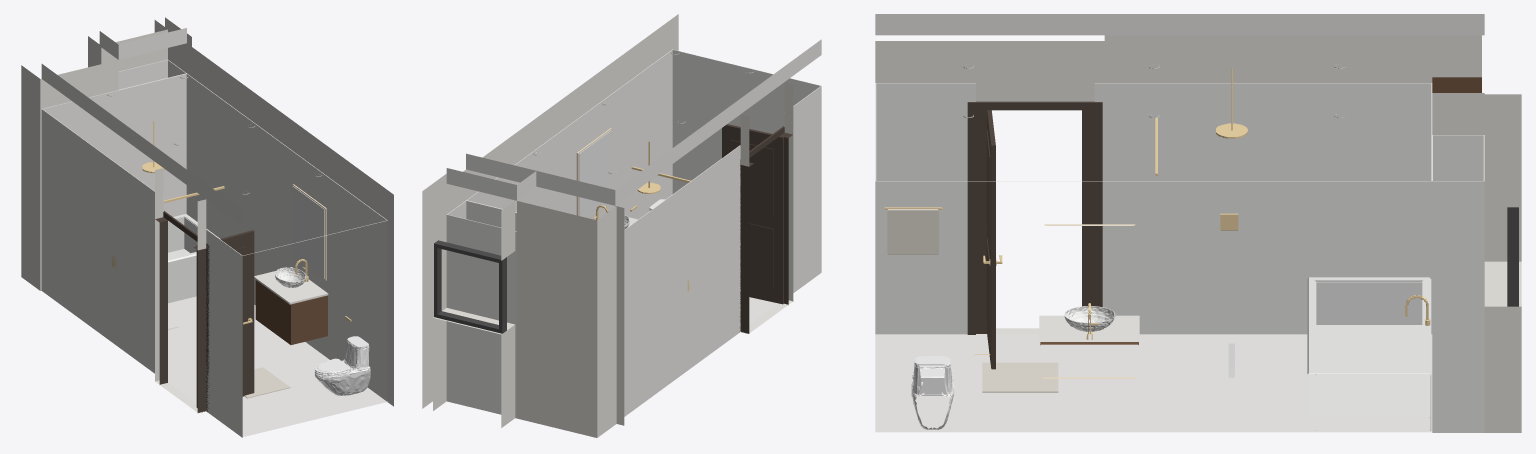
Rendered from BATH1.glb.
3 views of the same model, side by side, from view 1: azimuth 30°, elevation 25°; view 2: azimuth 150°, elevation 25°; view 3: azimuth 270°, elevation 25° (orthographic). The views are drawn at different scales.
Visible parts, largest first — view 1: WEB_BATH1; view 2: WEB_BATH1; view 3: WEB_BATH1.
Boxes of the visible parts, x1=… form: WEB_BATH1: x1=21, y1=17, x2=393, y2=437; WEB_BATH1: x1=422, y1=14, x2=821, y2=437; WEB_BATH1: x1=875, y1=14, x2=1521, y2=432.
Size of the model in its own units: 2.27 by 3 by 5.72.
